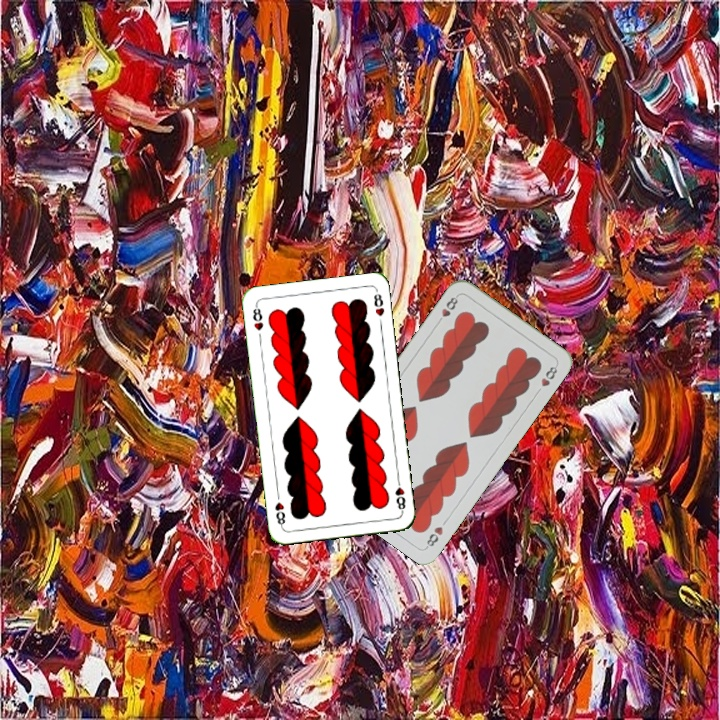H8: (433, 291, 461, 327), (391, 474, 408, 515), (422, 522, 446, 550), (248, 301, 266, 333)
